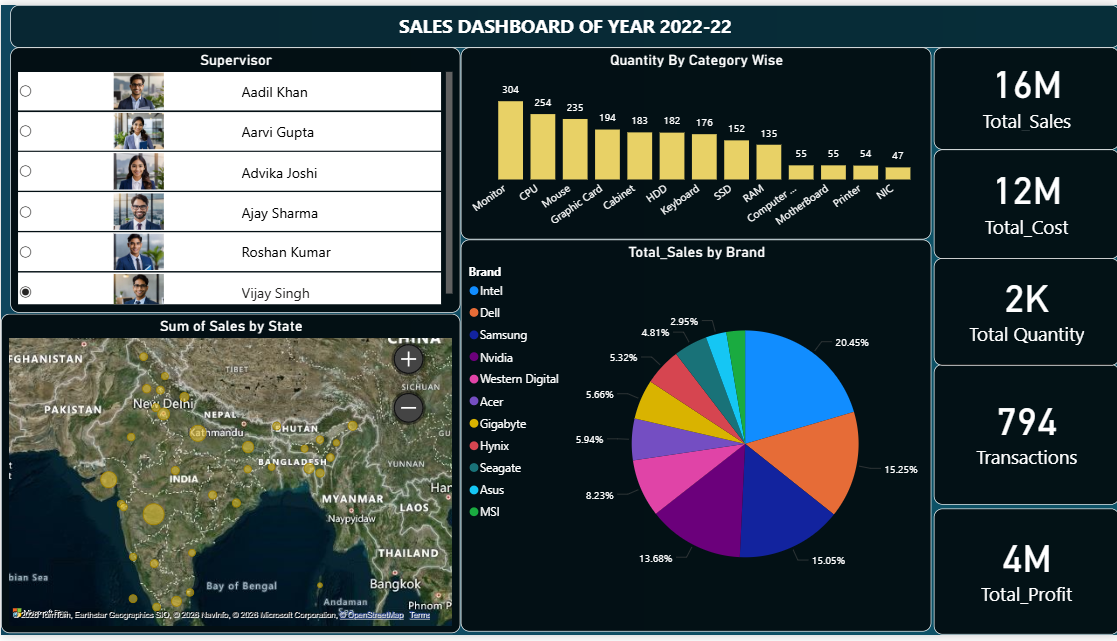

The dashboard page shown, as its layout file describes it:
{"tool":"powerbi","page":{"name":"Page 1","canvas":[1280,720],"ordinal":0},"visuals":[{"type":"textbox","box":[10,0,1270,48.8],"z":0},{"type":"cardVisual","fields":{"Data":["Sum(Sales_Data.Total_Sales)"]},"box":[1066.7,48.3,213.3,116.7],"z":1000},{"type":"cardVisual","fields":{"Data":["Sum(Sales_Data.Total_Cost)"]},"box":[1066.7,165,213.3,125],"z":2000},{"type":"cardVisual","fields":{"Data":["CountNonNull(Sales_Data.Order_Number)"]},"box":[1066.7,411.1,213.9,161.1],"z":3000},{"type":"cardVisual","fields":{"Data":["Sum(Sales_Data.Quantity)"]},"box":[1066.7,290,213.3,123.3],"z":4000},{"type":"cardVisual","fields":{"Data":["Sales_Data.Total_Profit"]},"box":[1066.7,575,213.9,144.4],"z":5000},{"type":"clusteredColumnChart","title":"Quantity By Category Wise","fields":{"Y":["Sum(Sales_Data.Quantity)"],"Category":["Sales_Data.Category"]},"box":[525,48.3,538.3,220],"z":6000},{"type":"pieChart","title":"Total_Sales by Brand","fields":{"Y":["Sum(Sales_Data.Total_Sales)"],"Category":["Sales_Data.Brand"]},"box":[525,268.3,538.3,448.3],"z":7000},{"type":"map","fields":{"Category":["State_list.State"],"Size":["Sum(Sales_Data.Sales)"]},"box":[0,352.3,525.1,365.6],"z":8000},{"type":"listSlicer","fields":{"Values":["Supervisor.Supervisor"]},"box":[10,48.3,515,303.3],"z":9000}]}

Visuals, with their boxes in screenshot pixels (x1, y1, x2, y2), scaled from the page's 1280x720 canvas onto the 1117x641 screenshot:
textbox: box=[9, 0, 1116, 43]
cardVisual - Sum(Sales_Data.Total_Sales): box=[931, 43, 1116, 147]
cardVisual - Sum(Sales_Data.Total_Cost): box=[931, 147, 1116, 258]
cardVisual - CountNonNull(Sales_Data.Order_Number): box=[931, 366, 1116, 509]
cardVisual - Sum(Sales_Data.Quantity): box=[931, 258, 1116, 368]
cardVisual - Sales_Data.Total_Profit: box=[931, 512, 1116, 640]
"Quantity By Category Wise" clusteredColumnChart: box=[458, 43, 928, 239]
"Total_Sales by Brand" pieChart: box=[458, 239, 928, 638]
map - State_list.State x Sum(Sales_Data.Sales): box=[0, 314, 458, 639]
listSlicer - Supervisor.Supervisor: box=[9, 43, 458, 313]
